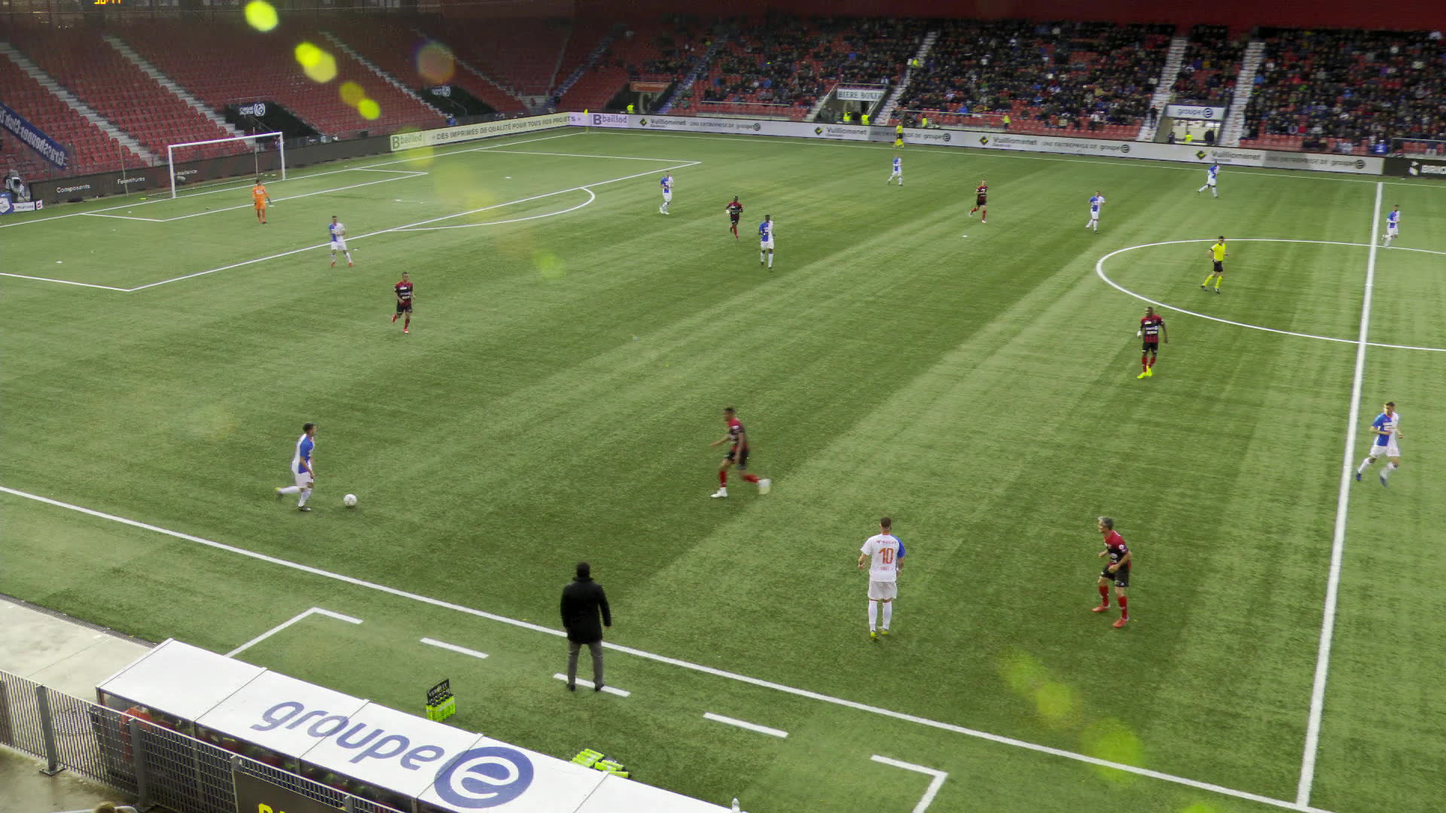ball: (343, 495, 355, 506)
player: (850, 521, 907, 643), (1084, 518, 1136, 633), (1353, 400, 1407, 495), (717, 408, 768, 501), (274, 422, 322, 514), (1133, 308, 1170, 380), (394, 268, 415, 332), (328, 215, 352, 269), (758, 214, 778, 273), (1380, 202, 1405, 248), (1086, 190, 1107, 233), (657, 168, 676, 214), (252, 178, 271, 224), (728, 195, 745, 240), (1203, 162, 1223, 199), (975, 181, 992, 222), (892, 152, 905, 185)
referee: (1200, 236, 1231, 294), (895, 121, 907, 149)
